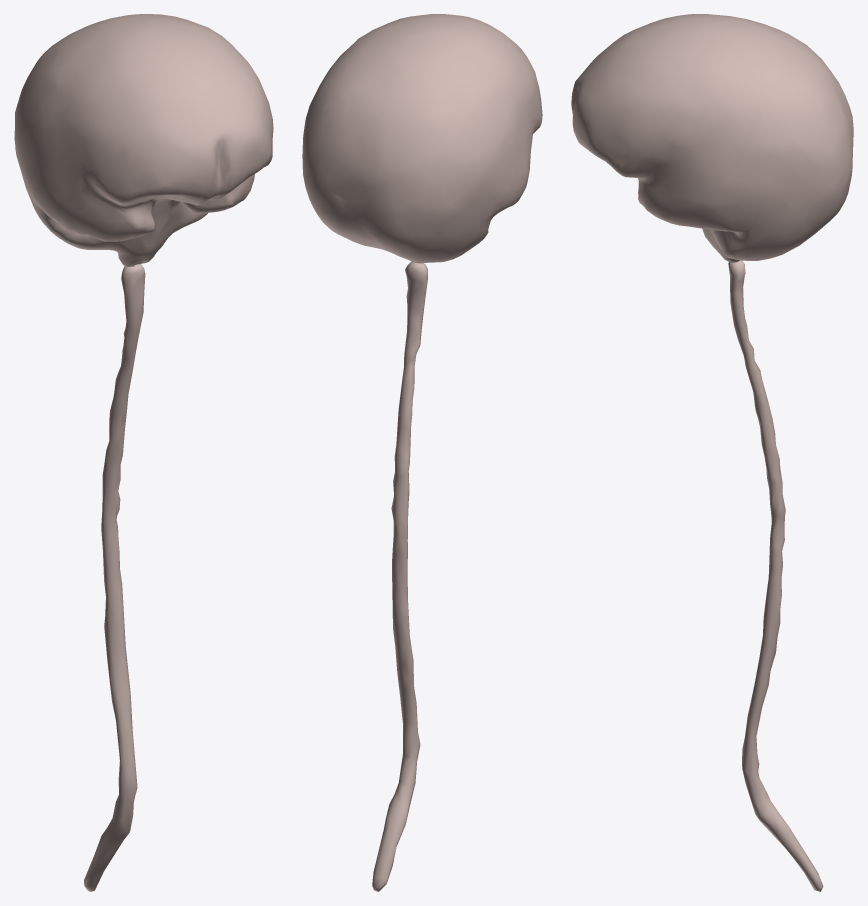
File: pediatric_child_5y_male.nervous.LOD0.glb
3 views of the same model, side by side, from view 1: azimuth 30°, elevation 25°; view 2: azimuth 150°, elevation 25°; view 3: azimuth 270°, elevation 25° (orthographic). The views are drawn at different scales.
Parts seen in each view (by area): view 1: PEDIATRIC.CHILD_5Y.MALE.NERVOUS.BRAIN, PEDIATRIC.CHILD_5Y.MALE.NERVOUS.SPINAL_CORD; view 2: PEDIATRIC.CHILD_5Y.MALE.NERVOUS.BRAIN, PEDIATRIC.CHILD_5Y.MALE.NERVOUS.SPINAL_CORD; view 3: PEDIATRIC.CHILD_5Y.MALE.NERVOUS.BRAIN, PEDIATRIC.CHILD_5Y.MALE.NERVOUS.SPINAL_CORD.
Part boxes in pixels (box(x1,y1,x2,y2)): PEDIATRIC.CHILD_5Y.MALE.NERVOUS.BRAIN: box(14, 14, 273, 267); PEDIATRIC.CHILD_5Y.MALE.NERVOUS.SPINAL_CORD: box(84, 264, 145, 891); PEDIATRIC.CHILD_5Y.MALE.NERVOUS.BRAIN: box(302, 14, 542, 263); PEDIATRIC.CHILD_5Y.MALE.NERVOUS.SPINAL_CORD: box(372, 261, 427, 891); PEDIATRIC.CHILD_5Y.MALE.NERVOUS.BRAIN: box(571, 14, 853, 262); PEDIATRIC.CHILD_5Y.MALE.NERVOUS.SPINAL_CORD: box(728, 260, 823, 891).
Size of the model in its own units: 0.1284 by 0.5302 by 0.1566.
